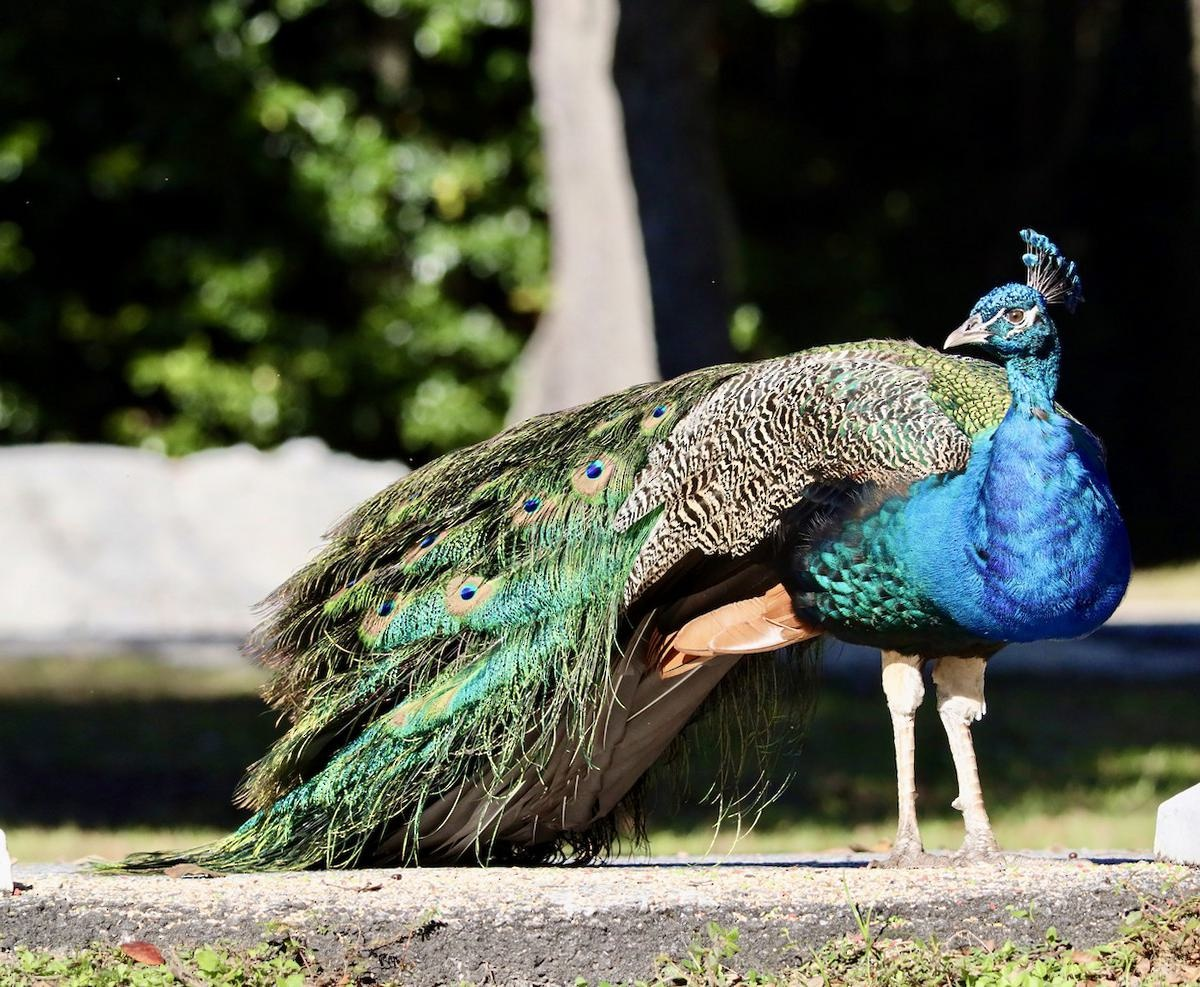peacock: (192, 184, 1150, 889)
